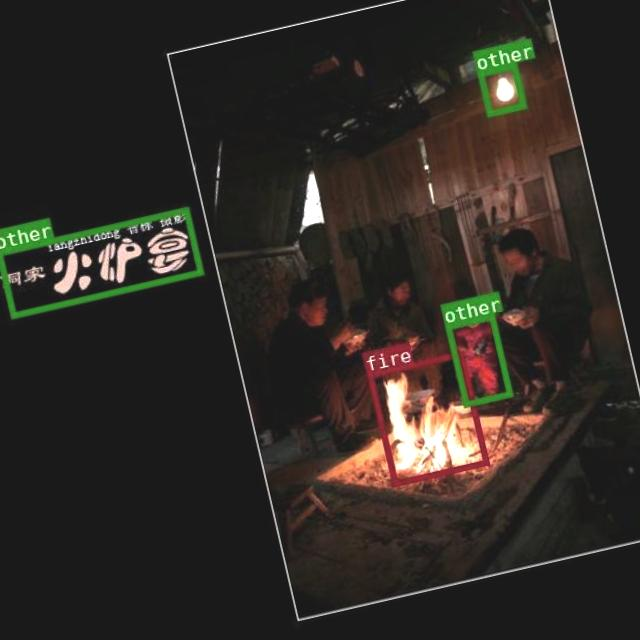fire: (366, 350, 488, 485)
